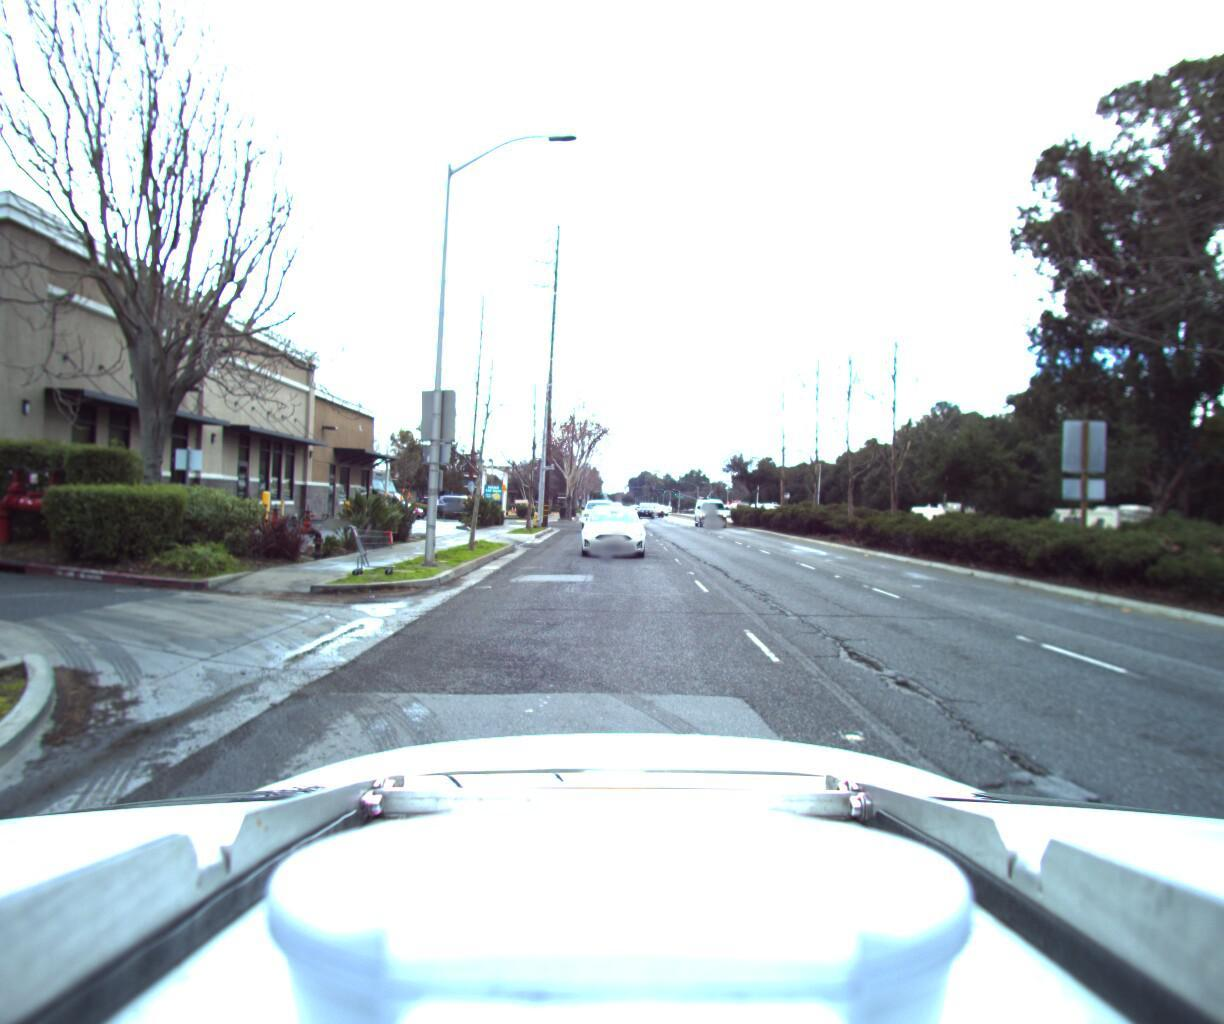car: (575, 495, 648, 552), (693, 489, 733, 525)
other_vehicle: (1045, 494, 1166, 551), (904, 486, 981, 527)
